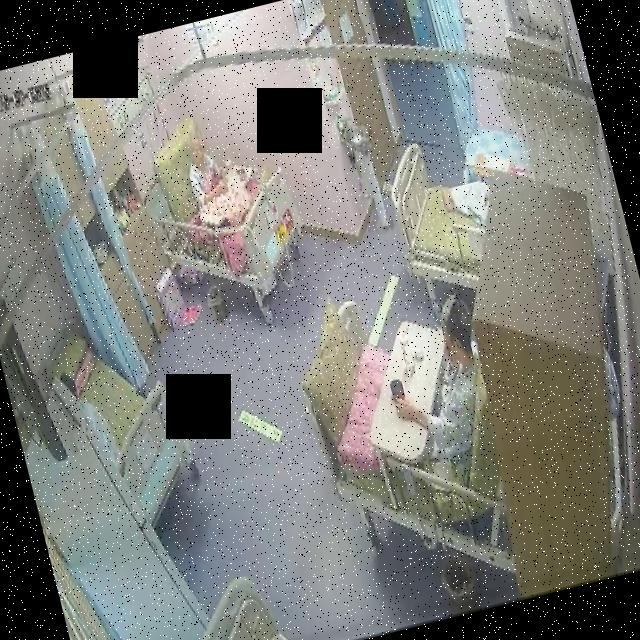bed: (283, 274, 523, 576), (138, 117, 332, 337), (47, 316, 211, 542), (376, 126, 512, 304)
patient: (366, 282, 509, 490), (176, 127, 232, 207)
sit: (366, 282, 509, 491), (178, 132, 232, 208)
